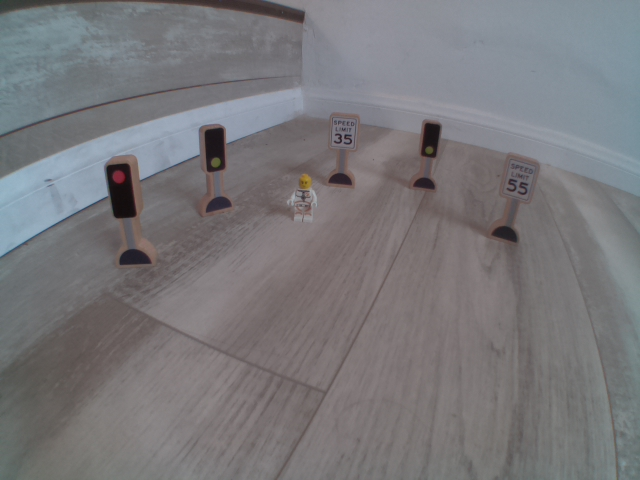Green Traffic Light: (199, 120, 232, 179), (414, 109, 444, 164)
Red Traffic Light: (98, 154, 145, 225)
Speed Limit 35: (326, 106, 361, 152)
Speed Limit 55: (503, 154, 535, 198)
person: (276, 163, 324, 224)
